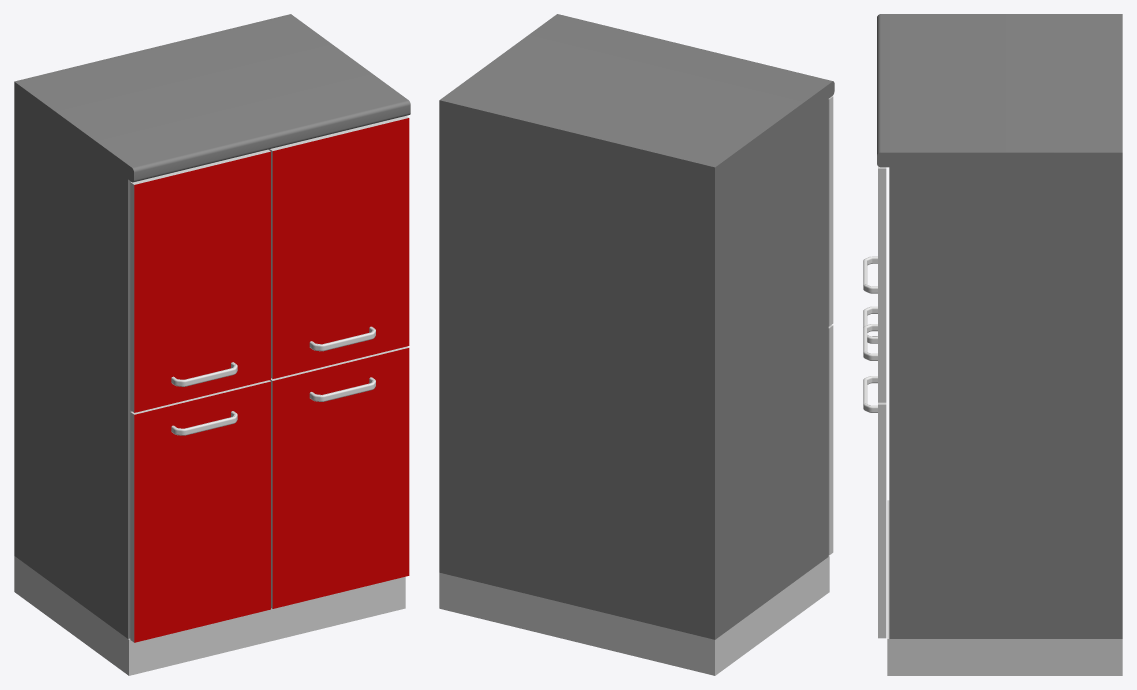
The model's file is sweethome3d-lucapresidente-large-pantry-56.glb.
3 views of the same model, side by side, from view 1: azimuth 30°, elevation 25°; view 2: azimuth 150°, elevation 25°; view 3: azimuth 270°, elevation 25° (orthographic). The views are drawn at different scales.
Visible parts, largest first — view 1: Rectangle18_1, Line69_11, Box622_8, Box652_18, Box642_13, Box612_5, Box63_10, Box613_6, Box643_14; view 2: Rectangle18_1, Line69_11, Box63_10, Box613_6, Box643_14; view 3: Rectangle18_1, Line69_11, Box63_10, Box653_19, Box623_9.
Part boxes in pixels (<box>): Rectangle18_1: <box>14,93,131,638</box>; Line69_11: <box>14,14,410,182</box>; Box622_8: <box>272,348,409,608</box>; Box652_18: <box>272,118,409,378</box>; Box642_13: <box>134,151,270,412</box>; Box612_5: <box>134,381,270,642</box>; Box63_10: <box>14,556,405,675</box>; Box613_6: <box>130,412,134,642</box>; Box643_14: <box>130,182,134,412</box>; Rectangle18_1: <box>439,96,828,639</box>; Line69_11: <box>439,14,834,181</box>; Box63_10: <box>439,556,829,675</box>; Box613_6: <box>828,325,833,555</box>; Box643_14: <box>828,96,833,326</box>; Rectangle18_1: <box>889,163,1122,638</box>; Line69_11: <box>877,14,1122,167</box>; Box63_10: <box>887,500,1122,675</box>; Box653_19: <box>878,168,886,402</box>; Box623_9: <box>878,404,886,638</box>.
Bounding box in the file's own units: 80 × 141 × 63.38.
